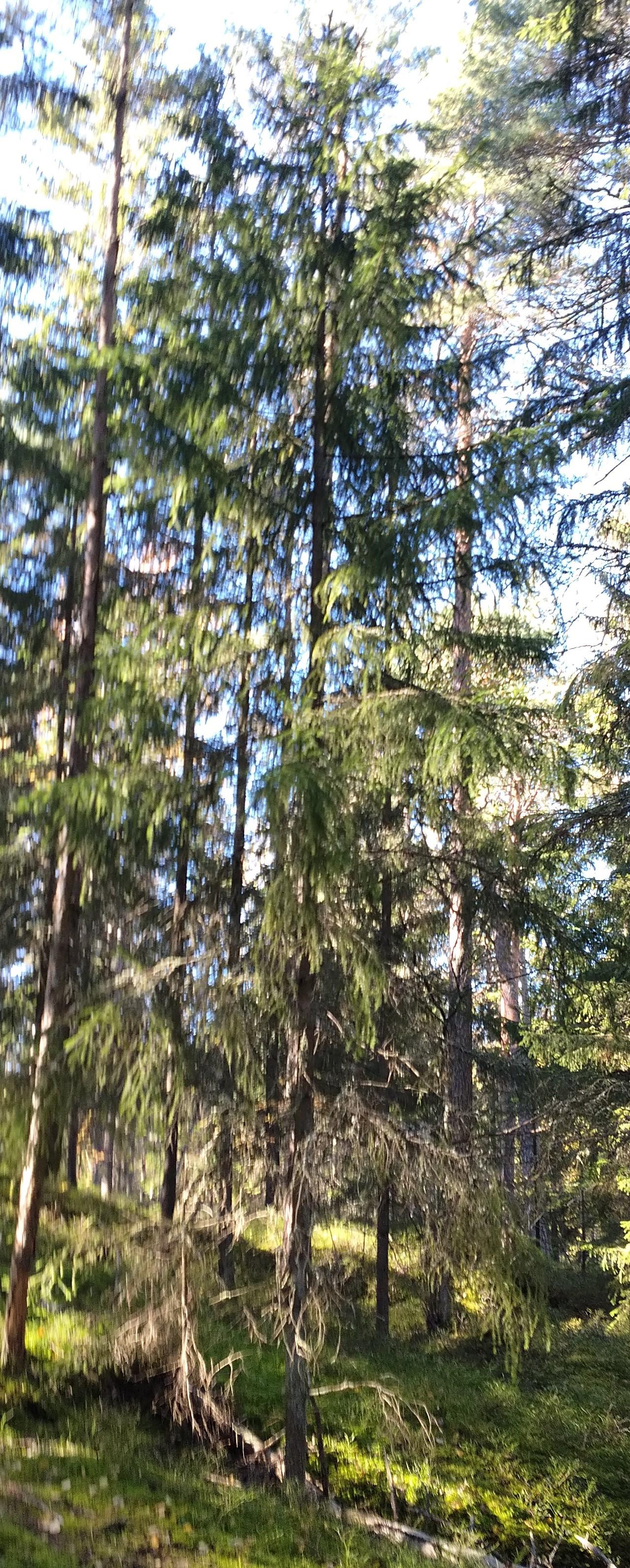Spruce: (3, 2, 627, 1493)
